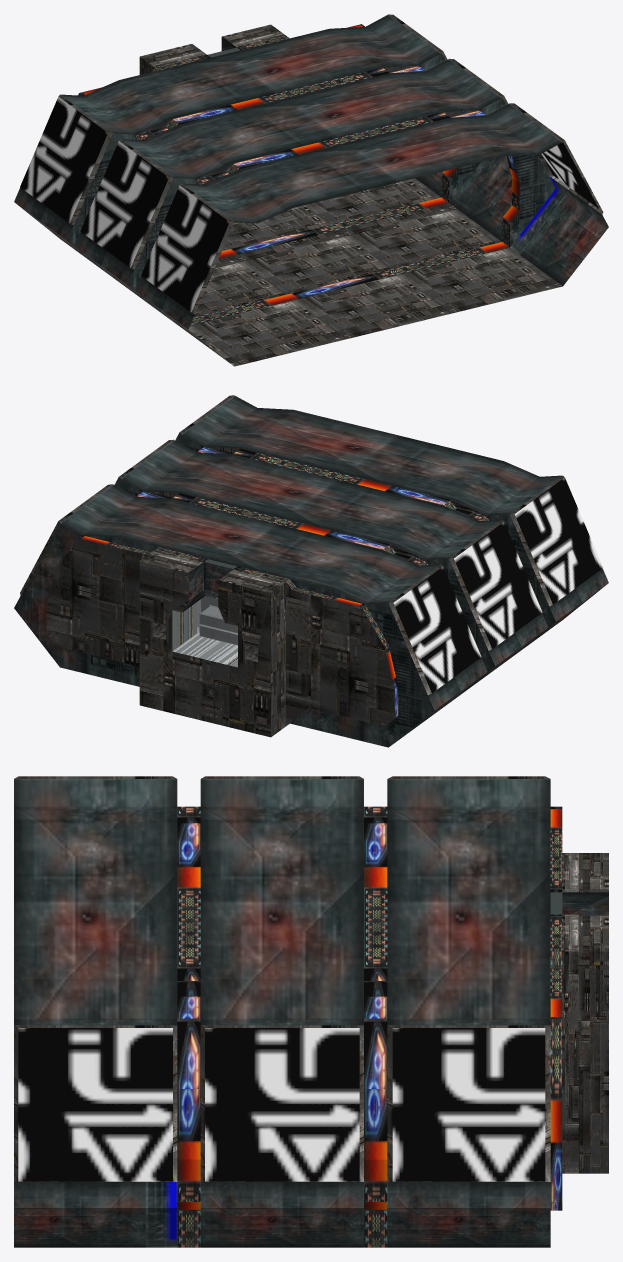
3 renders of one model, top to bottom at view 1: azimuth 30°, elevation 25°; view 2: azimuth 150°, elevation 25°; view 3: azimuth 270°, elevation 25°, orthographic. The views are drawn at different scales.
Parts seen in each view (by area): view 1: top03, top01, top02, don01, don02, win02, win01, win03, xin04, don03, xin05, com04 (+13 smaller); view 2: wall01, top01, top03, top02, wall02, win01, win02, win03, Zwall07, Zwall02, Zwall01, sub04 (+16 smaller); view 3: top03, top01, top02, win04, win05, win06, wall02, xin04, xin05, xin06, com04, com03 (+5 smaller).
Boxes of the visible parts, x1,y1,x2,y2 form: top03: [60, 14, 441, 134]; top01: [182, 103, 562, 223]; top02: [121, 59, 501, 178]; don01: [188, 247, 562, 366]; don02: [194, 203, 501, 316]; win02: [80, 139, 173, 269]; win01: [141, 183, 234, 313]; win03: [20, 95, 112, 225]; xin04: [510, 176, 608, 285]; don03: [222, 178, 440, 250]; xin05: [449, 156, 511, 241]; com04: [479, 98, 555, 247]; wall01: [271, 579, 434, 747]; top01: [181, 395, 562, 515]; top03: [60, 484, 440, 604]; top02: [121, 440, 501, 559]; wall02: [14, 523, 158, 686]; win01: [510, 476, 602, 606]; win02: [449, 520, 542, 650]; win03: [388, 564, 481, 694]; Zwall07: [140, 651, 270, 737]; Zwall02: [218, 566, 289, 648]; Zwall01: [139, 547, 207, 625]; sub04: [136, 491, 425, 565]; top03: [387, 779, 550, 1025]; top01: [14, 779, 177, 1025]; top02: [200, 779, 363, 1025]; win04: [387, 1025, 550, 1181]; win05: [200, 1025, 363, 1181]; win06: [14, 1025, 177, 1181]; wall02: [550, 951, 608, 1210]; xin04: [14, 1182, 177, 1247]; xin05: [200, 1182, 363, 1247]; xin06: [387, 1182, 550, 1247]; com04: [177, 1018, 200, 1247]; com03: [364, 1018, 387, 1247].
Size of the model in its own units: 225 by 73.68 by 179.
Materials: 5 (5 with a texture image).
